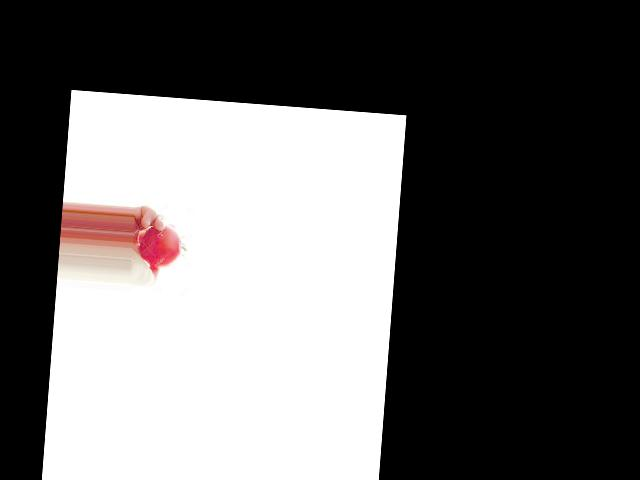tomato: (138, 222, 184, 269)
